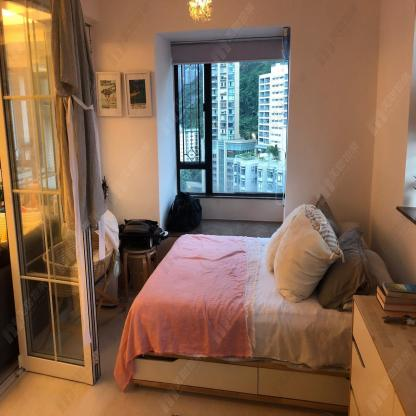Bed: (130, 194, 395, 413)
Windowsill: (155, 25, 291, 236)
